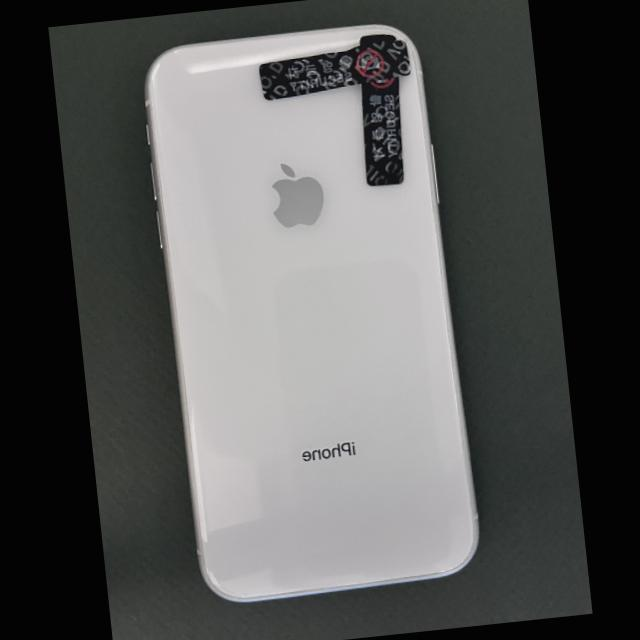phone: (143, 23, 480, 603)
sticker: (258, 39, 411, 100), (360, 77, 403, 187)
